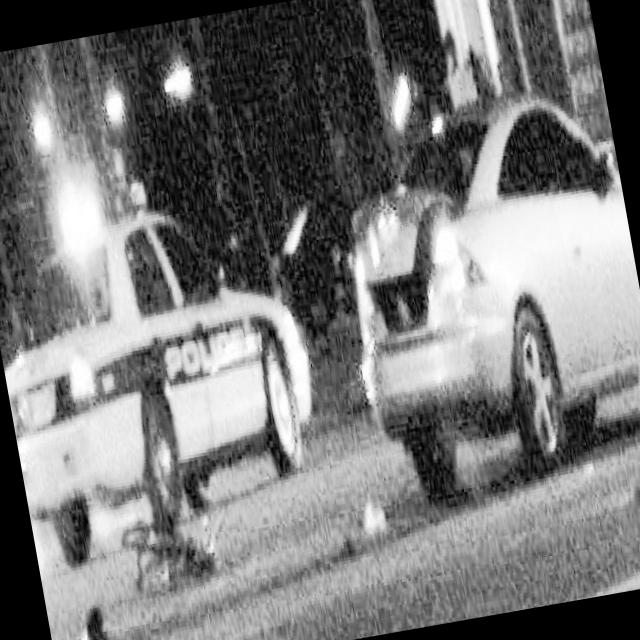Bicycle: (108, 477, 236, 622)
Car: (303, 46, 640, 555), (0, 203, 344, 609)
